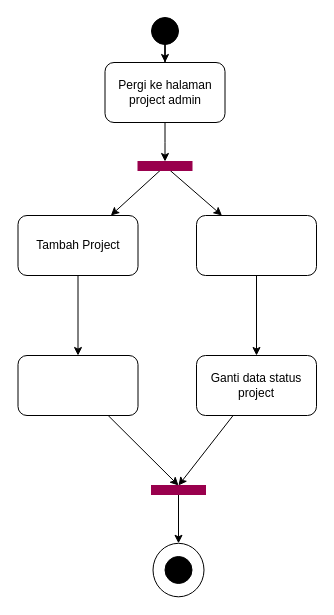
The diagram is 334 pixels wide and 615 high, and some of its shapes have lost their labels. Here are the shapes that lost their labels. From the top down, the centre of each, then its label:
At (256,245): "Ganti status project".
At (77,385): "Isi data project".
